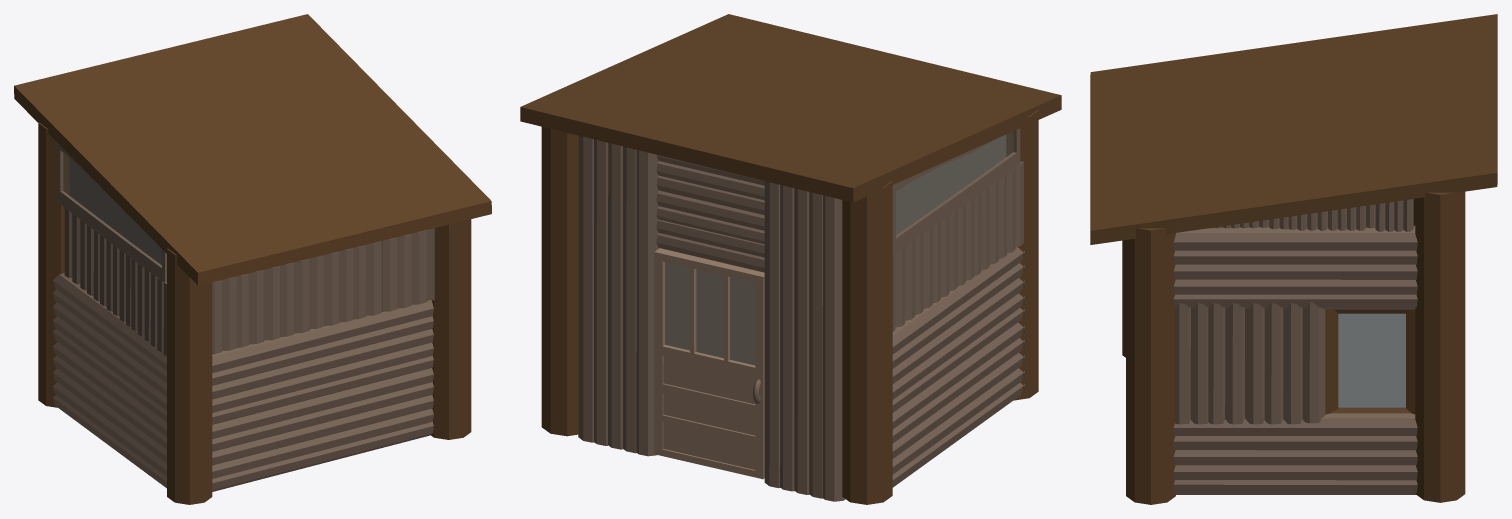
Rendered from BeeShedFinal.fbx.
The picture shows the model from 3 angles, left to right: view 1: azimuth 30°, elevation 25°; view 2: azimuth 150°, elevation 25°; view 3: azimuth 270°, elevation 25°; orthographic projection. The views are drawn at different scales.
Parts seen in each view (by area): view 1: BeeShed; view 2: BeeShed; view 3: BeeShed.
Boxes of the visible parts, <box> form: BeeShed: <box>14,14,491,504</box>; BeeShed: <box>520,14,1061,504</box>; BeeShed: <box>1090,14,1497,504</box>.
Size of the model in its own units: 27.57 by 26.35 by 29.34.
